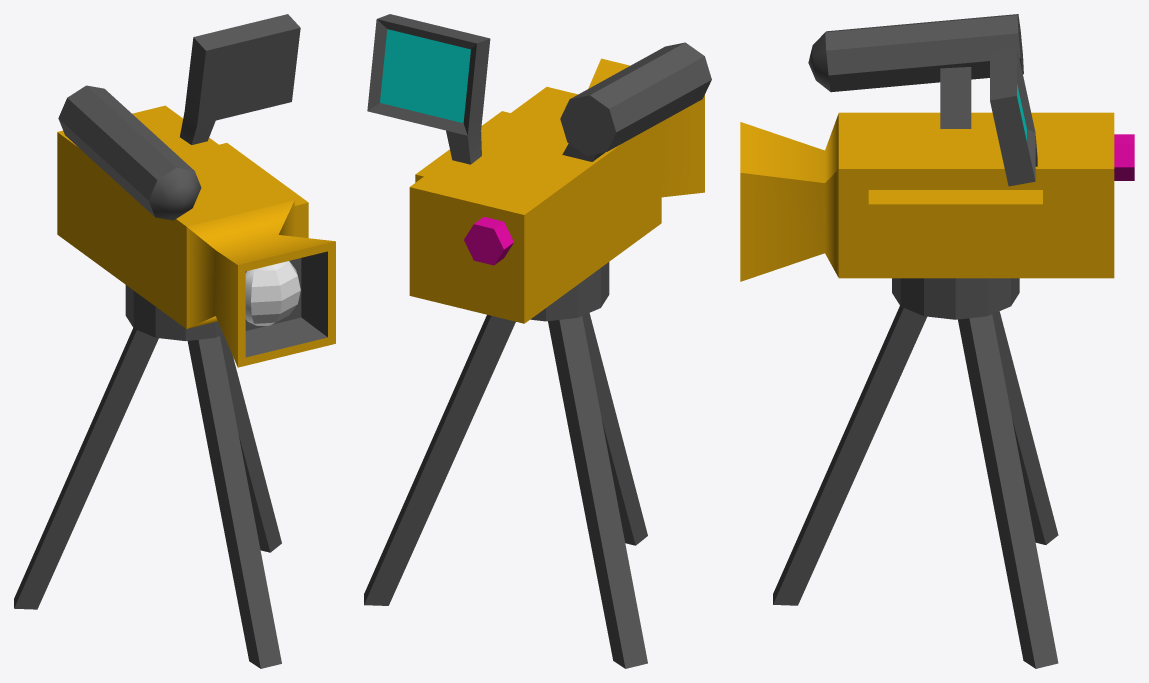
Rendered from standingCamera.fbx.
3 renders of one model, left to right at view 1: azimuth 30°, elevation 25°; view 2: azimuth 150°, elevation 25°; view 3: azimuth 270°, elevation 25°, orthographic. The views are drawn at different scales.
Visible parts, largest first — view 1: standingCamera; view 2: standingCamera; view 3: standingCamera.
Part boxes in pixels (bbox=[...]): standingCamera: bbox=[14, 14, 335, 668]; standingCamera: bbox=[364, 14, 711, 668]; standingCamera: bbox=[740, 14, 1134, 668].
Size of the model in its own units: 1.65 by 3.16 by 1.97.
